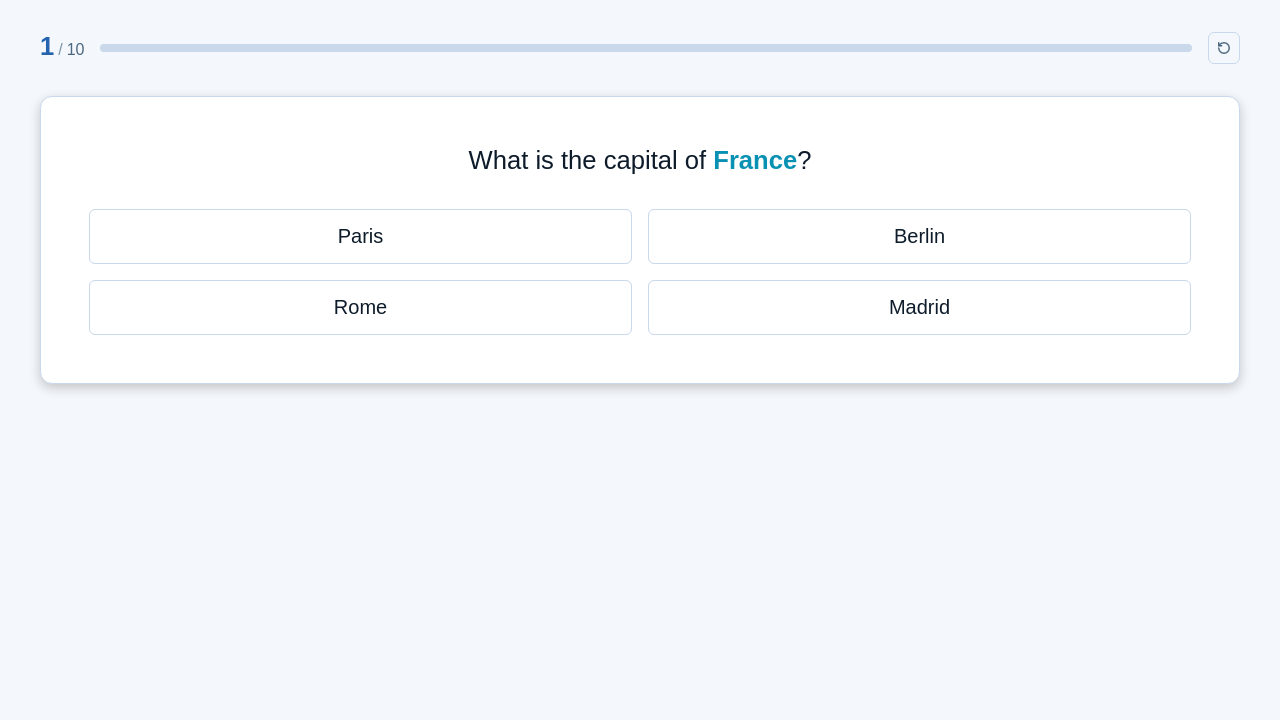
Question › restart button opens the confirm modal
Click the button named "Restart quiz": x=1224, y=48 [1208,32,1240,64]
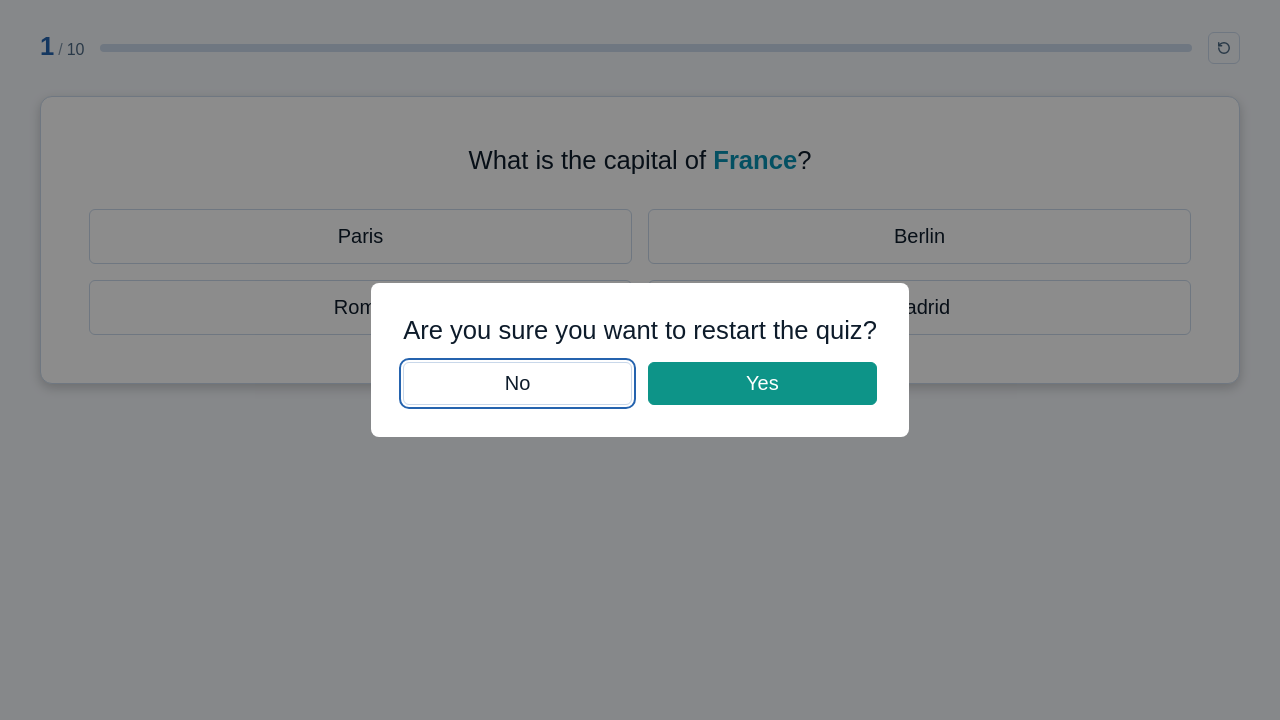
Now the dialog is shown
